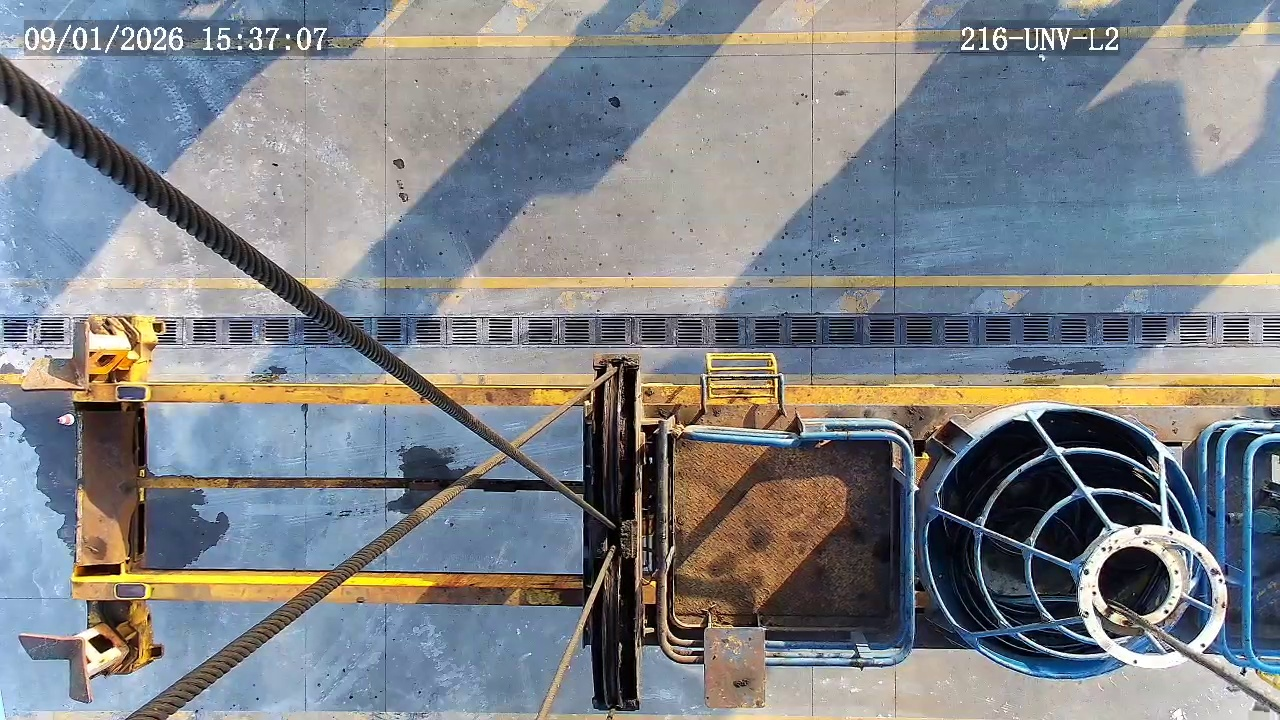left: (1076, 523, 1228, 670)
